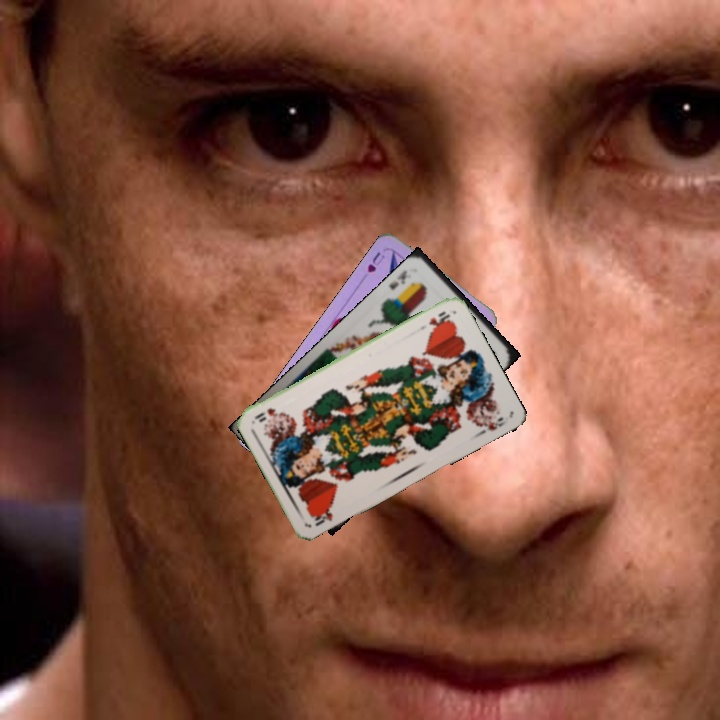EK: (385, 266, 410, 292)
HO: (415, 307, 453, 333), (308, 502, 335, 529)
HU: (363, 248, 388, 276)
